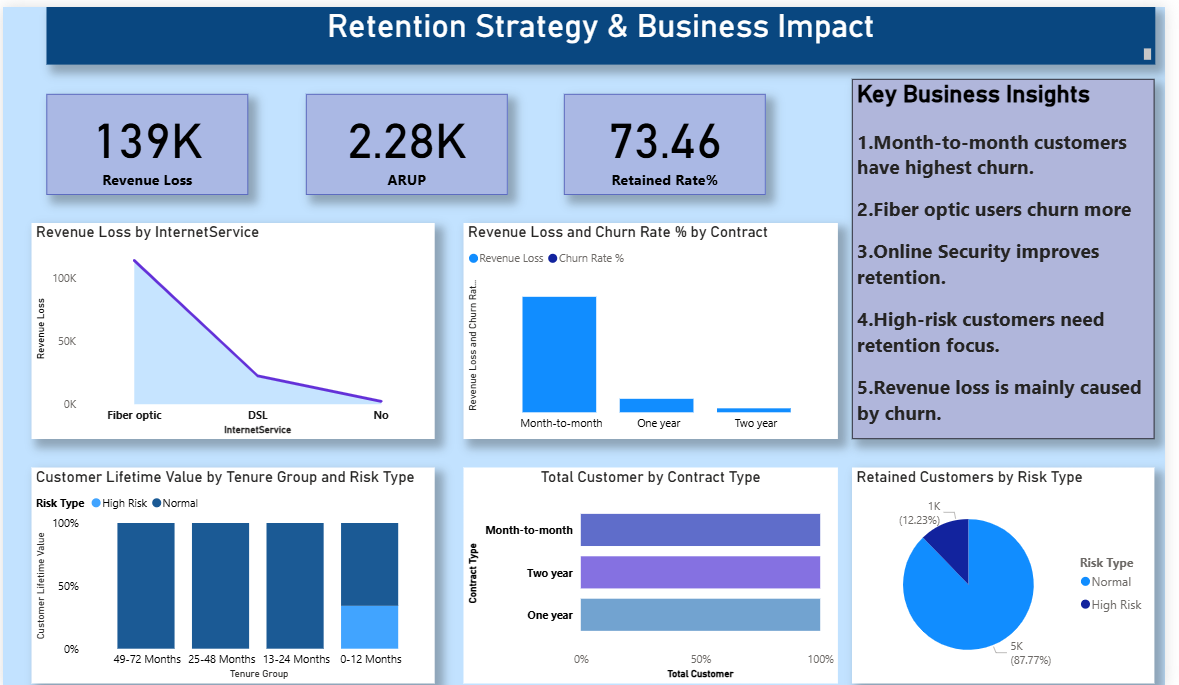

What the dashboard file says about the page in this screenshot:
{"tool":"powerbi","page":{"name":"Churn Prevention Analysis","canvas":[1292,757],"ordinal":2},"visuals":[{"type":"card","fields":{"Values":["Churn_data3.Revenue Loss"]},"box":[48,96,224,112],"z":0},{"type":"lineStackedColumnComboChart","fields":{"Category":["Churn_data3.Contract"],"Y":["Churn_data3.Revenue Loss","Churn_data3.Churn Rate %"]},"box":[512,240,416,240],"z":1000},{"type":"areaChart","fields":{"Category":["internet_data1.InternetService"],"Y":["Churn_data3.Revenue Loss"]},"box":[32,240,448,240],"z":2000},{"type":"hundredPercentStackedColumnChart","fields":{"Category":["Churn_data3.Tenure Group"],"Series":["Churn_data3.Risk Type"],"Y":["Churn_data3.Customer Lifetime Value"]},"box":[32,512,448,240],"z":3000},{"type":"pieChart","fields":{"Category":["Churn_data3.Risk Type"],"Y":["Churn_data3.Retained Customers"]},"box":[944,512,336,240],"z":4000},{"type":"hundredPercentStackedBarChart","title":"Total Customer by Contract Type","fields":{"Y":["Churn_data3.Total Customer"],"Category":["Churn_data3.Contract"]},"box":[512,512,416,240],"z":5000},{"type":"card","fields":{"Values":["Churn_data3.ARUP"]},"box":[336,96,224,112],"z":6000},{"type":"card","fields":{"Values":["Churn_data3.Retained Rate %"]},"box":[624,96,224,112],"z":7000},{"type":"textbox","title":"Retention Strategy & Business Impact","box":[48,0,1232,64],"z":8000},{"type":"textbox","title":"Key Business Insights","box":[944,80,336,400],"z":9000}]}

Visuals, with their boxes in screenshot pixels (x1, y1, x2, y2), scaled from the page's 1292x757 canvas onto the 1179x685 screenshot:
card - Churn_data3.Revenue Loss: [44, 87, 248, 188]
lineStackedColumnComboChart - Churn_data3.Contract x Churn_data3.Revenue Loss: [467, 217, 847, 434]
areaChart - internet_data1.InternetService x Churn_data3.Revenue Loss: [29, 217, 438, 434]
hundredPercentStackedColumnChart - Churn_data3.Tenure Group x Churn_data3.Risk Type: [29, 463, 438, 680]
pieChart - Churn_data3.Risk Type x Churn_data3.Retained Customers: [861, 463, 1168, 680]
"Total Customer by Contract Type" hundredPercentStackedBarChart: [467, 463, 847, 680]
card - Churn_data3.ARUP: [307, 87, 511, 188]
card - Churn_data3.Retained Rate %: [569, 87, 774, 188]
"Retention Strategy & Business Impact" textbox: [44, 0, 1168, 58]
"Key Business Insights" textbox: [861, 72, 1168, 434]
